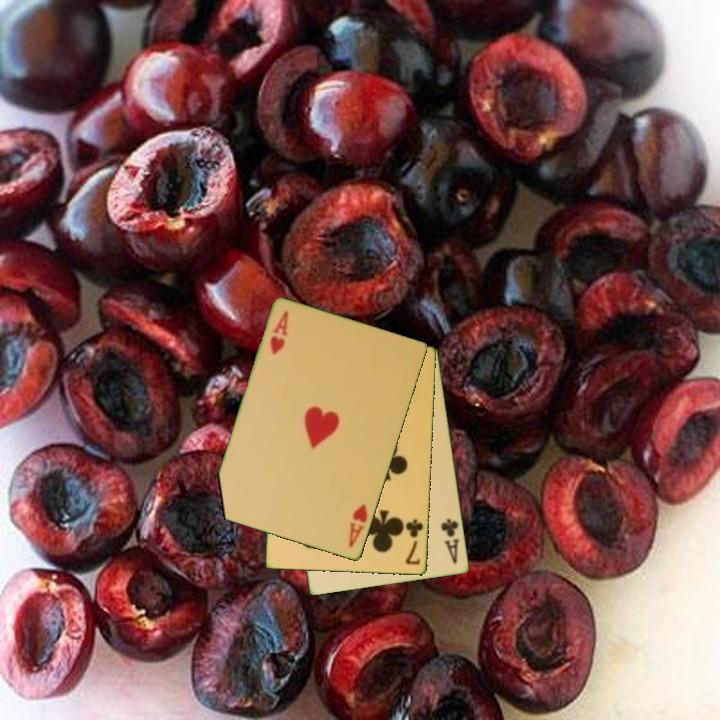7c: (402, 516, 426, 568)
Ac: (438, 515, 462, 567)
Ah: (345, 500, 371, 551), (266, 308, 291, 358)
